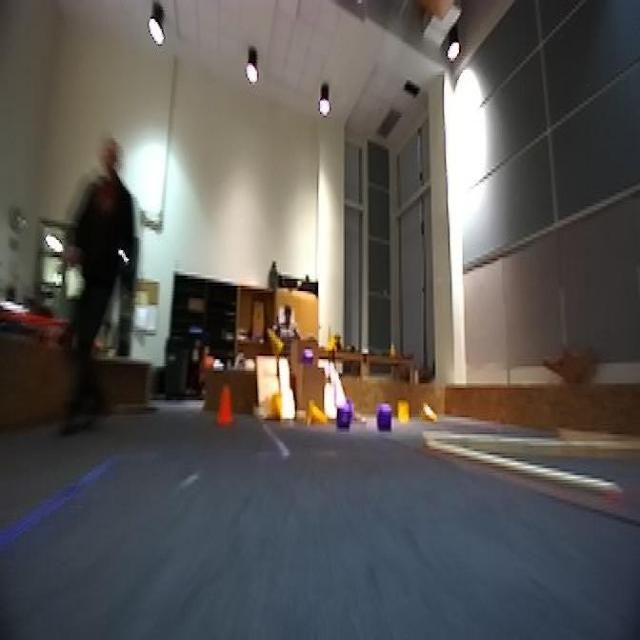frc_cone: (306, 402, 332, 432), (264, 392, 284, 422), (266, 332, 286, 354), (396, 402, 411, 426), (321, 335, 338, 356), (421, 402, 437, 422)
frc_cube: (334, 402, 354, 431), (378, 402, 392, 434), (301, 347, 316, 364)
